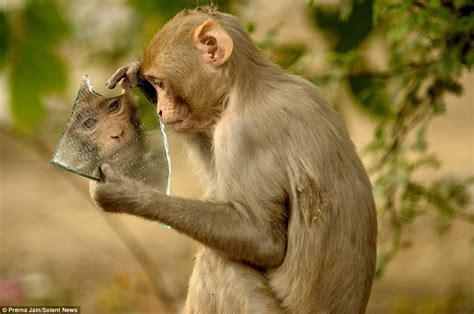monkey: (90, 7, 375, 312)
